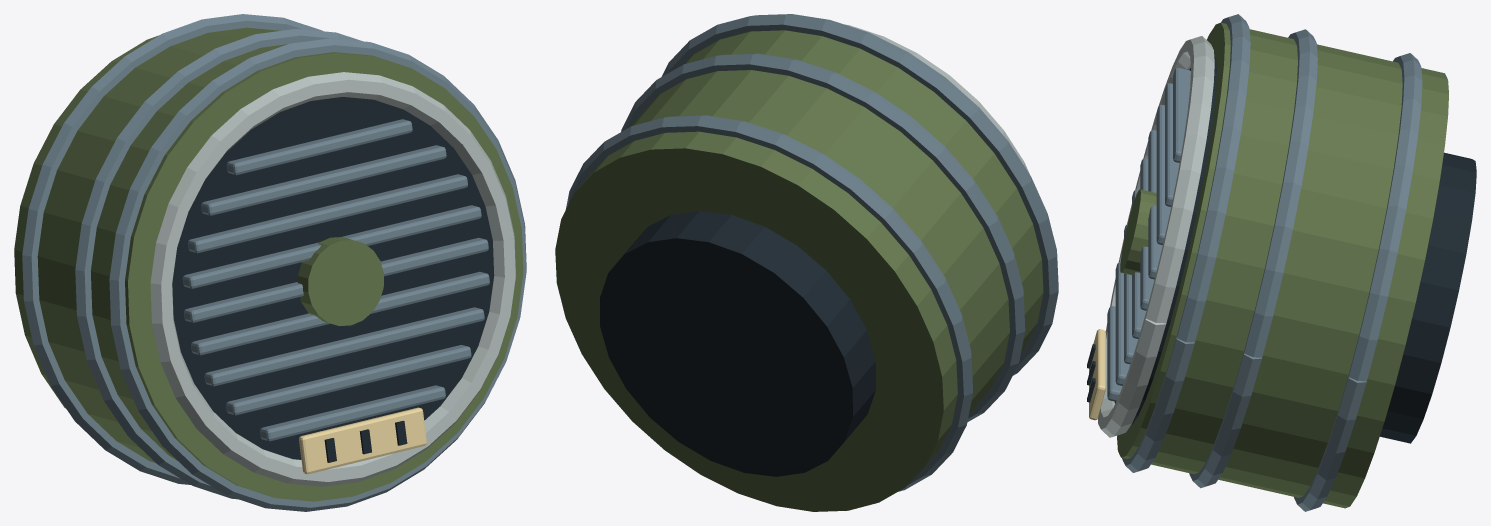
The picture shows the model from 3 angles, left to right: view 1: azimuth 30°, elevation 25°; view 2: azimuth 150°, elevation 25°; view 3: azimuth 270°, elevation 25°; orthographic projection.
Parts seen in each view (by area): view 1: C2-02_steel, C2-02_green, C2-02_ink, C2-02_edge, C2-02_paper; view 2: C2-02_green, C2-02_ink, C2-02_steel, C2-02_edge; view 3: C2-02_green, C2-02_steel, C2-02_ink, C2-02_edge, C2-02_paper.
Boxes of the visible parts, <box> form: C2-02_steel: <box>22,14,526,511</box>; C2-02_green: <box>14,27,523,501</box>; C2-02_ink: <box>172,97,494,462</box>; C2-02_edge: <box>150,72,515,486</box>; C2-02_paper: <box>299,407,426,474</box>; C2-02_green: <box>555,30,1043,511</box>; C2-02_ink: <box>600,211,875,476</box>; C2-02_steel: <box>565,14,1058,491</box>; C2-02_edge: <box>844,24,1029,174</box>; C2-02_green: <box>1117,22,1448,508</box>; C2-02_steel: <box>1107,14,1422,511</box>; C2-02_ink: <box>1087,56,1476,443</box>; C2-02_edge: <box>1097,36,1214,437</box>; C2-02_paper: <box>1089,329,1105,420</box>.
Bounding box in the file's own units: 0.306 × 0.3247 × 0.253.
